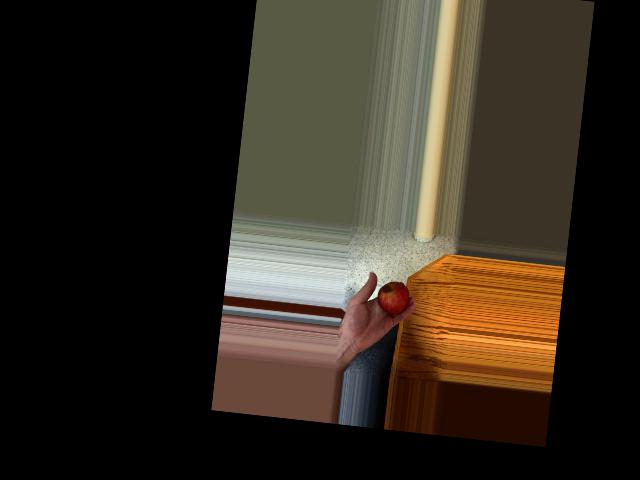apple: (373, 278, 412, 315)
